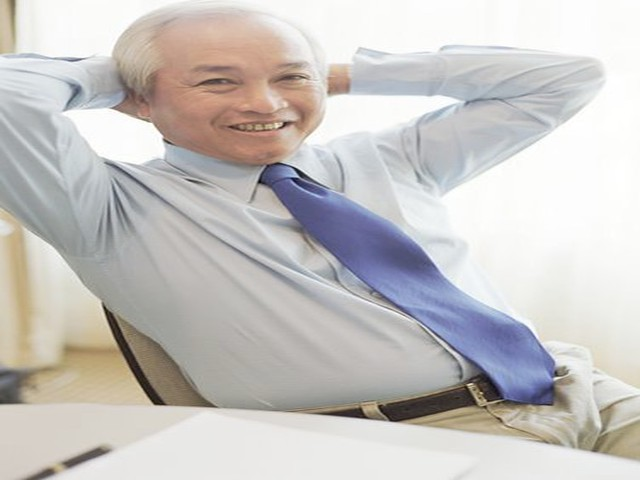Person: (4, 5, 610, 421)
